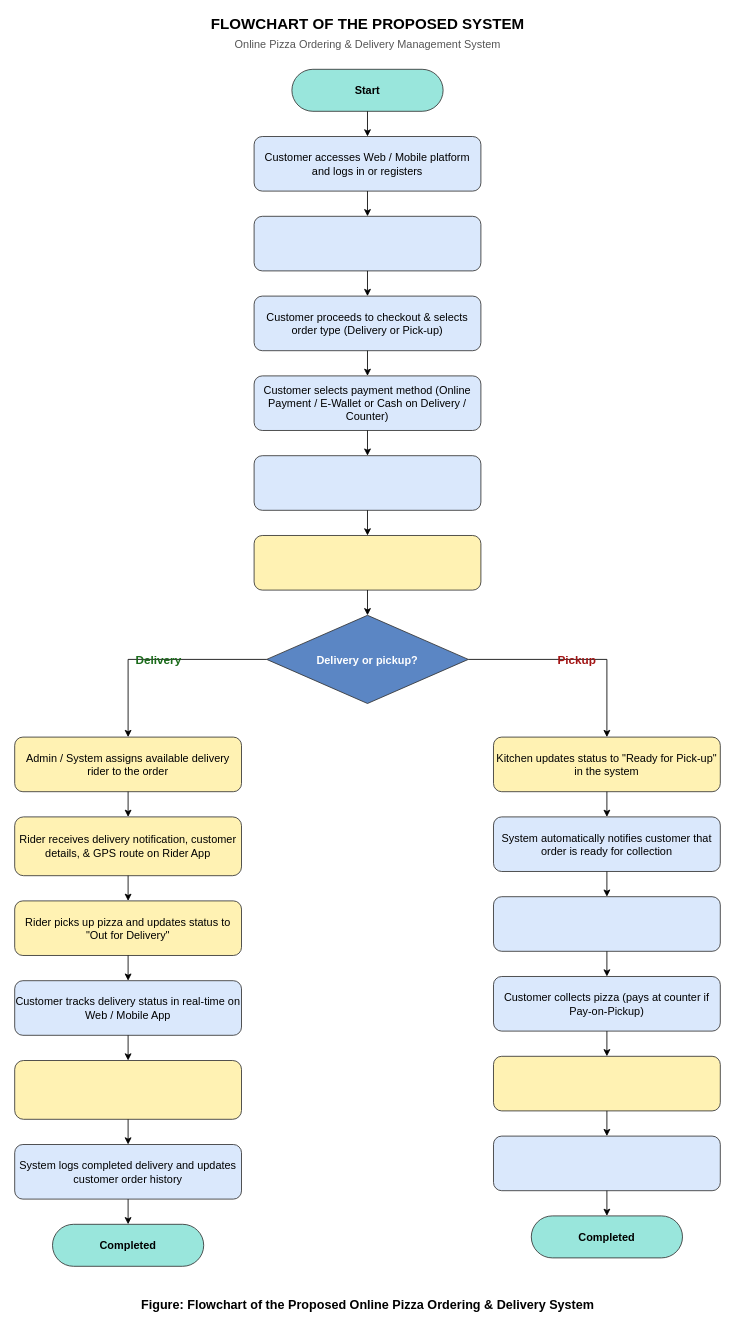
Image size: 735x1331. Some labels were removed from this diagram. Here are the shapes that lost their labels. From the top down, the centre of each, then its label:
point 367,243: Customer browses pizza menu, selects items, and adds to cart
point 367,482: System verifies payment & generates digital order ticket with order ID
point 367,562: Kitchen receives order notification on Kitchen Dashboard & prepares pizza
point 606,923: Customer arrives at store counter and presents digital order ID / receipt
point 128,1089: Rider delivers pizza, collects payment (if COD), and marks order as "Delivered"
point 606,1083: Staff marks order as "Picked Up / Completed" on store dashboard
point 606,1163: System logs completed order and records transaction in Sales Analytics
